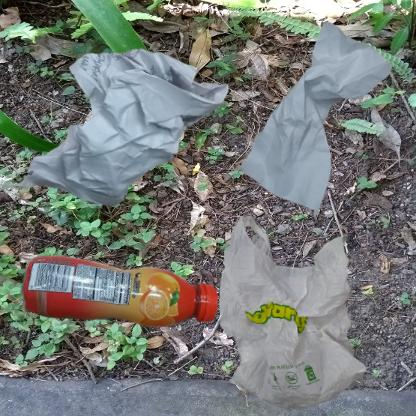bolsa: (213, 213, 377, 416)
botella: (10, 213, 281, 416)
papel: (10, 10, 268, 290), (213, 10, 416, 239)
